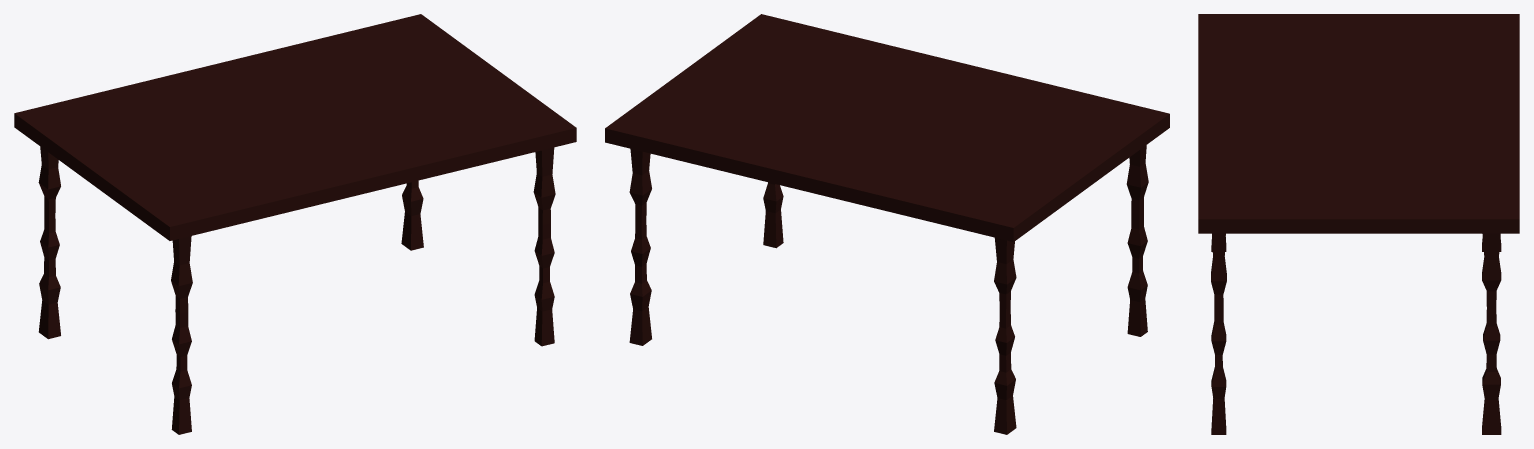
The model's file is Pöytä.fbx.
3 renders of one model, left to right at view 1: azimuth 30°, elevation 25°; view 2: azimuth 150°, elevation 25°; view 3: azimuth 270°, elevation 25°, orthographic. The views are drawn at different scales.
Visible parts, largest first — view 1: Cube; view 2: Cube; view 3: Cube.
Boxes of the visible parts, <box> form: Cube: <box>14,14,576,434</box>; Cube: <box>605,14,1169,434</box>; Cube: <box>1198,14,1519,434</box>.
Bounding box in the file's own units: 4.13 × 2.1 × 2.74.
